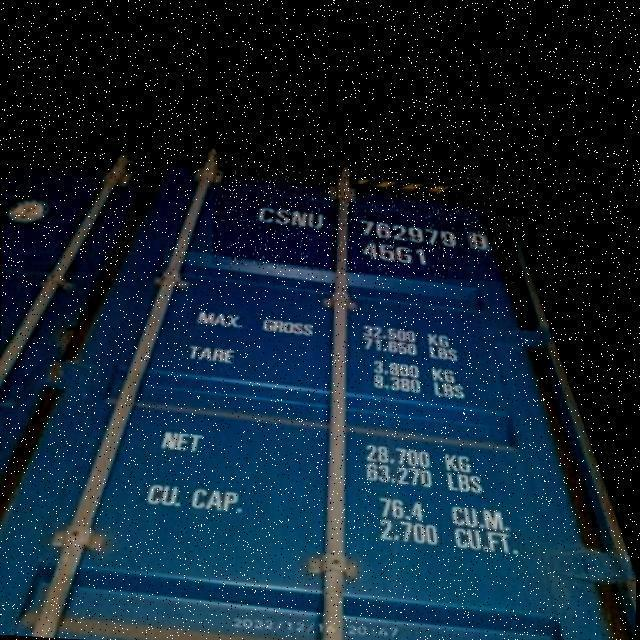container_number_h: (211, 152, 519, 278)
